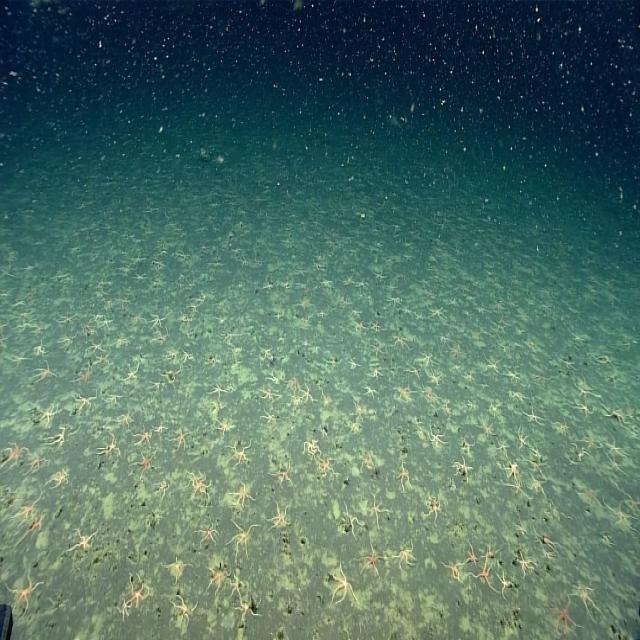brittle-stars: (545, 595, 580, 636), (6, 576, 44, 611), (604, 499, 640, 535), (467, 552, 500, 590), (10, 492, 42, 530), (573, 584, 604, 622), (329, 563, 357, 605), (225, 522, 257, 558), (14, 513, 46, 545), (122, 576, 150, 608), (600, 446, 628, 477), (172, 594, 198, 626), (222, 443, 254, 468), (206, 564, 231, 596), (363, 496, 388, 528), (572, 376, 602, 402), (358, 544, 383, 575), (130, 450, 159, 476), (265, 505, 292, 532), (164, 558, 192, 584), (390, 543, 416, 570), (1, 442, 28, 468), (268, 460, 293, 488), (343, 502, 362, 538), (512, 550, 536, 578), (438, 559, 468, 581), (236, 596, 261, 622), (229, 484, 254, 509), (131, 423, 155, 449), (195, 522, 219, 548), (602, 405, 628, 428), (578, 487, 602, 510), (67, 532, 97, 550), (34, 359, 57, 382), (601, 436, 625, 458), (44, 471, 68, 493), (41, 427, 67, 447), (98, 438, 122, 459), (73, 392, 98, 412), (453, 455, 472, 480), (395, 466, 413, 492), (429, 425, 449, 448), (39, 403, 58, 427), (426, 496, 442, 524), (167, 433, 193, 450), (27, 454, 49, 474), (317, 455, 335, 478), (160, 362, 180, 382), (530, 475, 548, 497), (302, 440, 322, 459), (193, 479, 212, 499), (500, 459, 520, 478), (393, 383, 414, 401), (511, 477, 529, 498), (230, 574, 244, 600), (575, 399, 594, 418), (185, 467, 203, 487), (482, 355, 502, 373), (116, 598, 132, 620), (521, 407, 543, 423), (624, 491, 640, 513), (592, 351, 614, 367), (476, 420, 499, 435), (529, 458, 547, 477), (72, 369, 94, 384), (115, 411, 134, 428), (258, 408, 278, 424), (92, 351, 112, 367), (427, 304, 447, 320), (542, 536, 560, 553), (405, 362, 422, 380), (458, 436, 475, 454), (481, 546, 501, 561), (392, 334, 412, 349), (418, 351, 438, 366), (427, 368, 444, 385), (207, 382, 225, 398), (122, 365, 140, 381), (532, 371, 552, 385), (466, 542, 478, 565), (9, 354, 30, 367), (148, 313, 166, 328), (580, 434, 598, 449), (512, 521, 528, 537), (258, 344, 274, 360), (261, 387, 278, 402), (371, 341, 385, 359), (382, 294, 400, 308), (486, 398, 499, 417), (115, 297, 134, 310), (213, 422, 229, 437), (505, 368, 522, 382), (352, 401, 363, 422), (158, 479, 170, 498), (300, 384, 312, 403), (561, 357, 577, 371), (56, 336, 80, 345), (420, 386, 434, 401), (362, 385, 378, 398), (361, 456, 374, 472), (446, 344, 462, 357), (86, 341, 104, 352), (496, 438, 508, 454), (371, 270, 387, 282), (148, 380, 167, 390), (518, 425, 526, 448), (354, 278, 369, 290), (443, 400, 452, 420), (220, 332, 240, 341), (98, 317, 114, 328), (106, 394, 123, 404), (58, 314, 75, 324), (32, 344, 46, 356), (288, 374, 300, 388), (339, 274, 354, 285), (266, 372, 280, 383), (372, 368, 383, 381), (207, 357, 220, 368), (320, 425, 329, 440), (182, 352, 194, 363), (320, 276, 332, 287), (82, 322, 90, 336), (348, 360, 359, 370), (168, 350, 178, 361), (353, 320, 364, 330), (372, 322, 381, 332), (467, 400, 475, 410)
